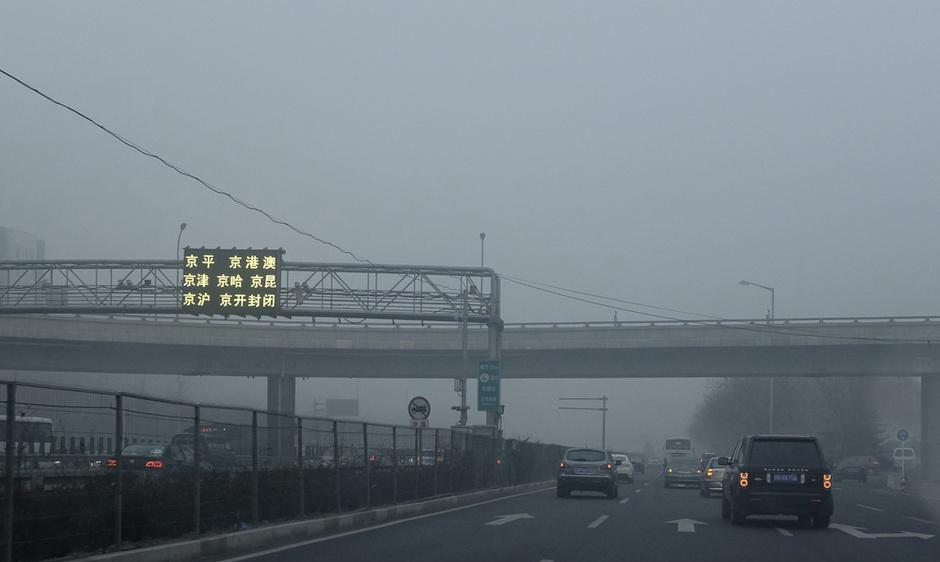bus: (179, 419, 276, 464), (1, 411, 57, 460), (662, 436, 695, 475)
car: (716, 430, 835, 526), (105, 441, 214, 486), (555, 447, 622, 499), (170, 430, 238, 469), (699, 455, 739, 498), (665, 457, 706, 489), (834, 457, 868, 486), (320, 446, 355, 473), (605, 453, 634, 485), (892, 445, 918, 470), (415, 448, 440, 473), (628, 456, 645, 474)
